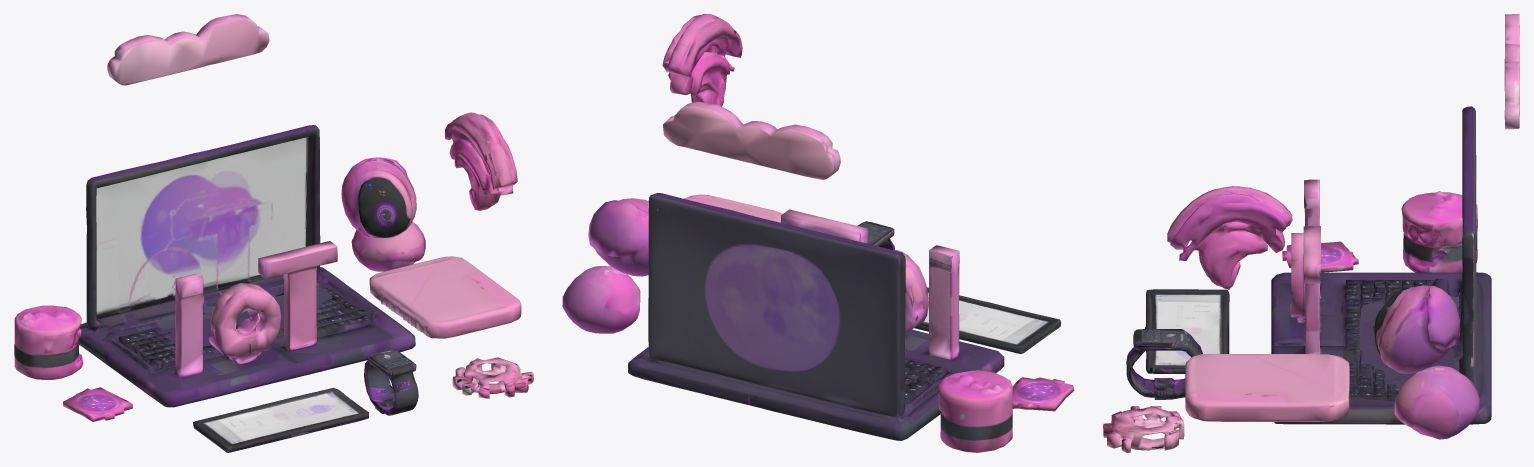
File: iot_dev.glb
3 renders of one model, left to right at view 1: azimuth 30°, elevation 25°; view 2: azimuth 150°, elevation 25°; view 3: azimuth 270°, elevation 25°, orthographic. The views are drawn at different scales.
Bounding box in the file's own units: 2 × 1.35 × 1.6.
Materials: 1 (1 with a texture image).
